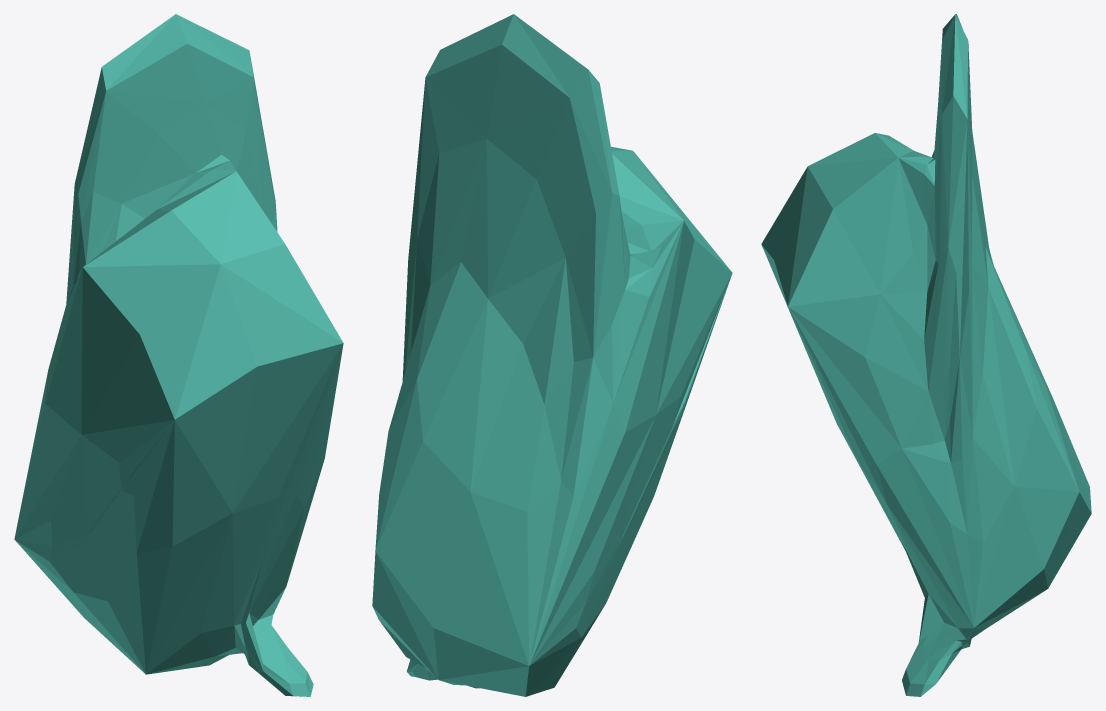
The picture shows the model from 3 angles, left to right: view 1: azimuth 30°, elevation 25°; view 2: azimuth 150°, elevation 25°; view 3: azimuth 270°, elevation 25°; orthographic projection. The views are drawn at different scales.
Parts seen in each view (by area): view 1: 766_Cube.3083; view 2: 766_Cube.3083; view 3: 766_Cube.3083.
Part boxes in pixels (left/top/right/bottom): 766_Cube.3083: left=14, top=14, right=343, bottom=696; 766_Cube.3083: left=372, top=14, right=732, bottom=696; 766_Cube.3083: left=761, top=14, right=1091, bottom=696.
Bounding box in the file's own units: 6.4 × 16.87 × 7.97.
